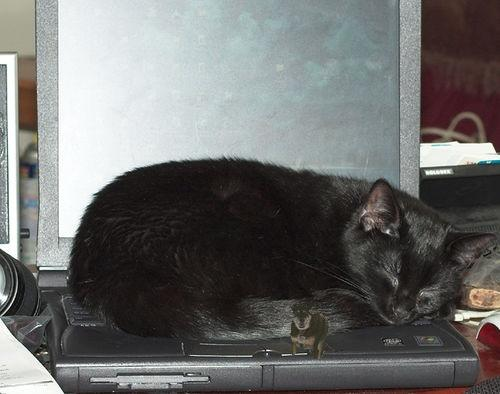tampered: (290, 304, 344, 359)
